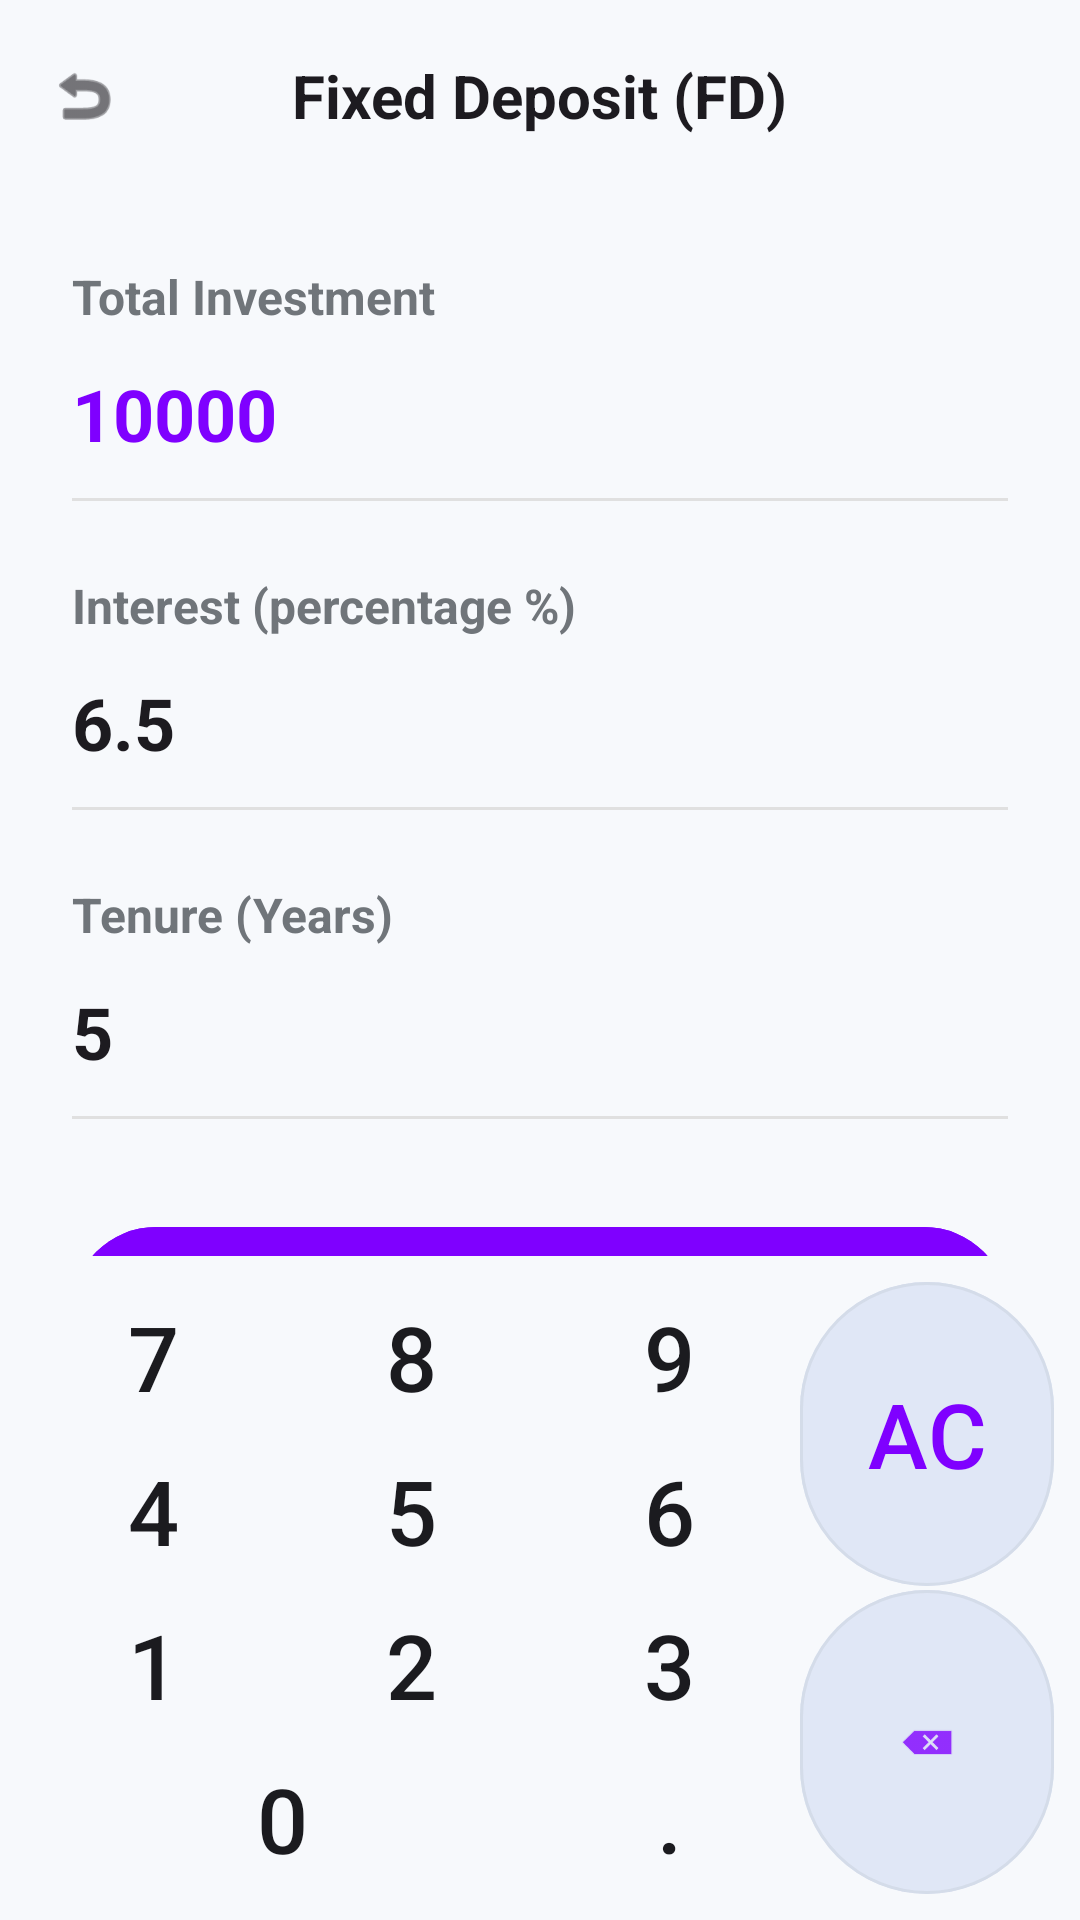

Where to tap for icons on this 1080px x 1920px app screen, as point (x, y):
delete: point (927, 1742)
revert: point (85, 96)
